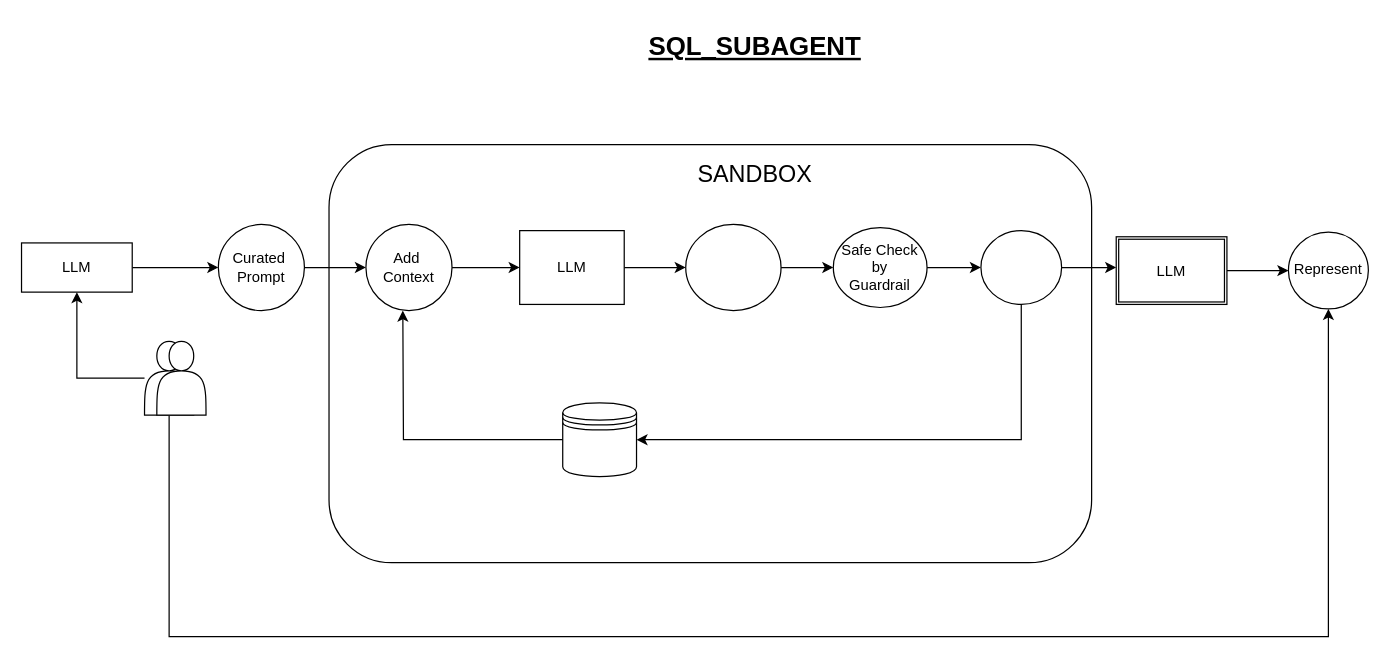
Image size: 1390x668. Some labels were removed from this diagram. Each missing label, with the centre of its shape:
"PostGres" belongs at pixel 599 439.
"RUN" belongs at pixel 1021 266.
"SQL given by LLM" belongs at pixel 732 267.
